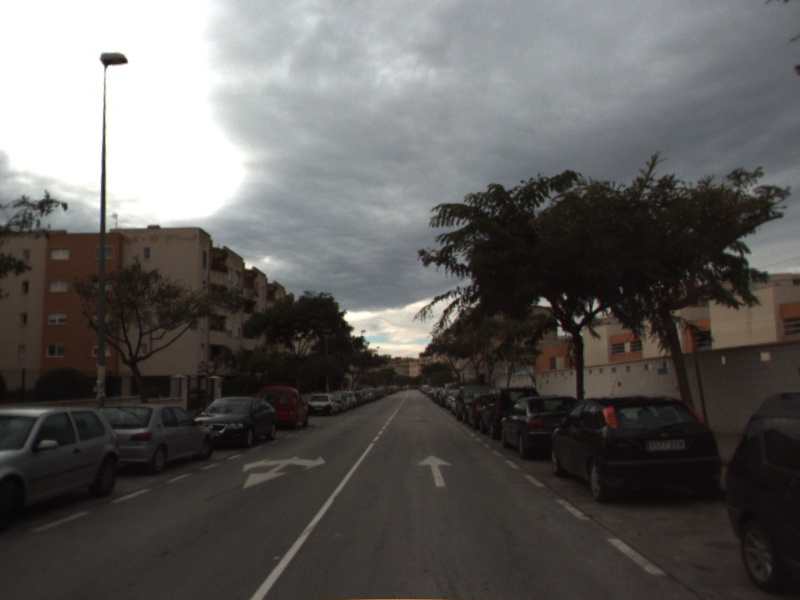STRAIGHT: (415, 453, 455, 489)
